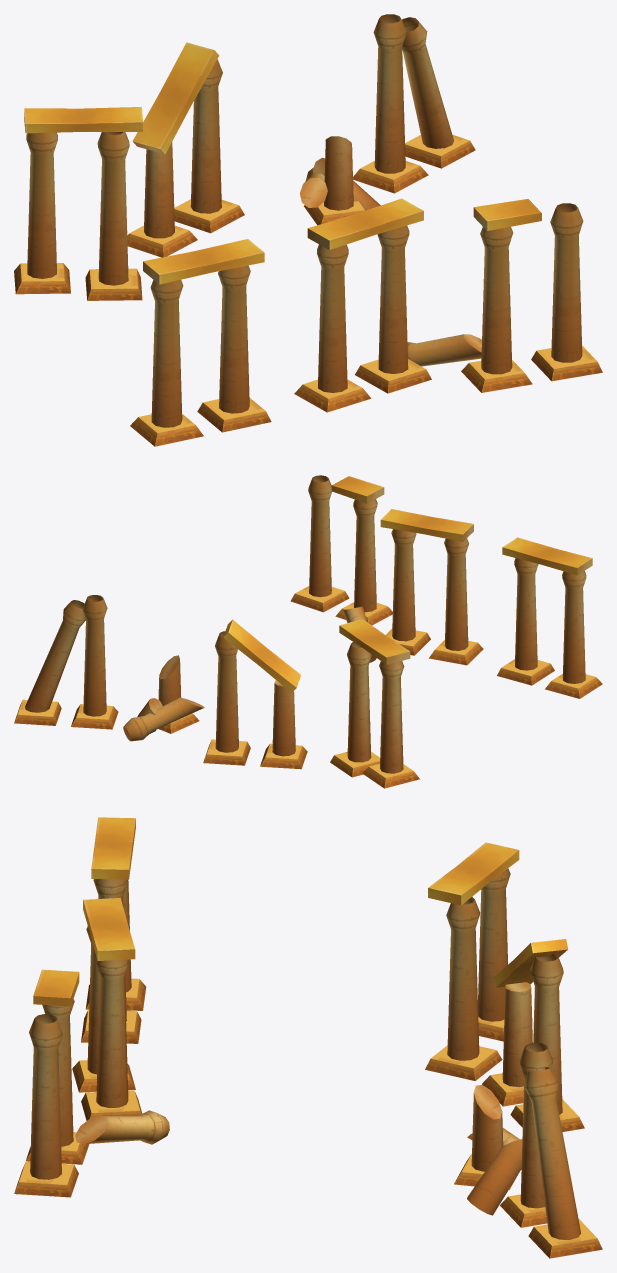
The model's file is rc_03_bud_03.FBX.
3 renders of one model, top to bottom at view 1: azimuth 30°, elevation 25°; view 2: azimuth 150°, elevation 25°; view 3: azimuth 270°, elevation 25°, orthographic. The views are drawn at different scales.
Visible parts, largest first — view 1: Cylinder009; view 2: Cylinder009; view 3: Cylinder009.
Boxes of the visible parts, <box> form: Cylinder009: <box>14,14,602,446</box>; Cylinder009: <box>14,475,602,788</box>; Cylinder009: <box>14,817,602,1258</box>.
Bounding box in the file's own units: 9663 × 8747 × 3364.
